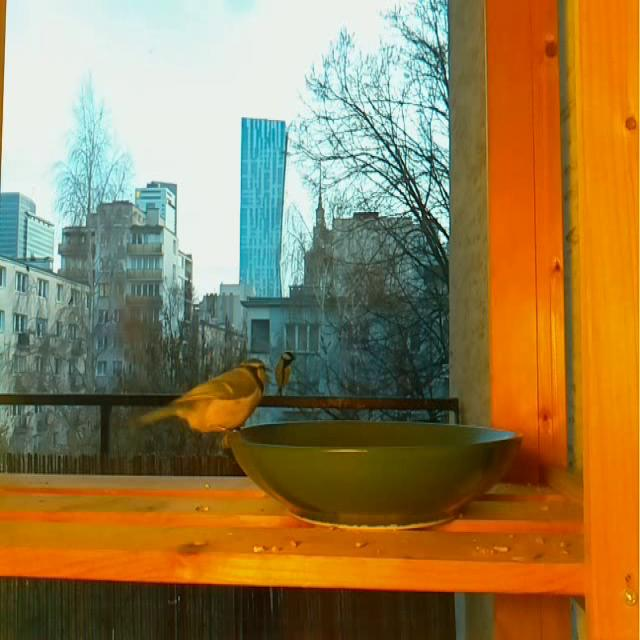Modraszka: (136, 357, 269, 436)
